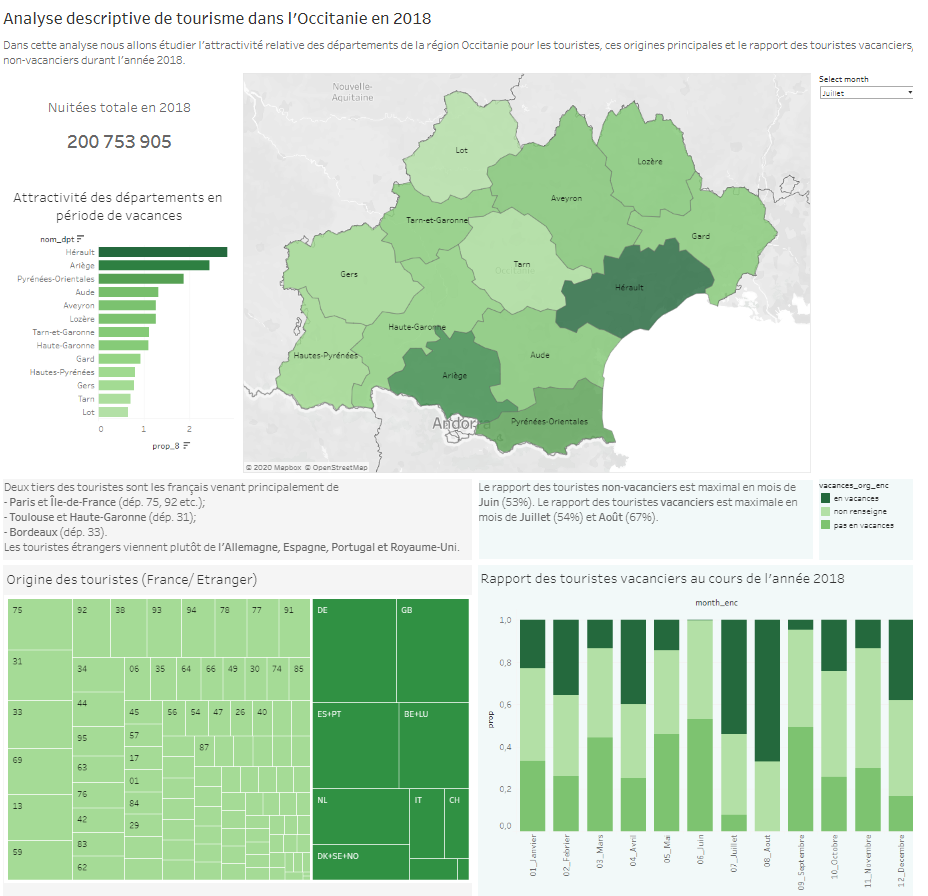

What the dashboard file says about the page in this screenshot:
{"tool":"tableau","page":{"name":"Dashboard 1","canvas":[1400,1400],"ordinal":0},"visuals":[{"type":"title","box":[8,8,1384,50]},{"type":"text","box":[8,58,1384,54]},{"type":"worksheet","title":"prop_1","mark":"Automatic","box":[8,112,1,608.4]},{"type":"worksheet","title":"prop_2","mark":"Automatic","box":[9,112,1,608.4]},{"type":"text","box":[10,112,353,166]},{"type":"worksheet","title":"prop_12","mark":"Automatic","box":[363,112,1,608.4]},{"type":"worksheet","title":"prop_11","mark":"Automatic","box":[364,112,1,608.4]},{"type":"worksheet","title":"prop_10","mark":"Automatic","box":[365,112,1,608.4]},{"type":"worksheet","title":"prop_9","mark":"Automatic","box":[366,112,1,608.4]},{"type":"worksheet","title":"prop_8","mark":"Automatic","box":[367,112,1,608.4]},{"type":"worksheet","title":"prop_7","mark":"Automatic","box":[367.9,112,860.1,608.4]},{"type":"worksheet","title":"prop_6","mark":"Automatic","box":[1228,112,1,608.4]},{"type":"worksheet","title":"prop_5","mark":"Automatic","box":[1229,112,1,608.4]},{"type":"worksheet","title":"prop_4","mark":"Automatic","box":[1230,112,1,608.4]},{"type":"worksheet","title":"prop_3","mark":"Automatic","box":[1231,112,1,608.4]},{"type":"parameter","param":"[Parameters].[Parameter 1]","box":[1232,112,160,54]},{"type":"worksheet","title":"dep_vis","mark":"Automatic","rows":["nom_dpt"],"cols":["prop_8"],"box":[10,278,353,426]},{"type":"text","box":[8,720.4,712,129.4]},{"type":"text","box":[720,720.4,512,129.4]},{"type":"legend","title":"df_vacance","param":"[federated.14q71590l86rbe1axti0s09cgynp].[none:vacances_org_enc:nk]","box":[1232,720.4,160,129.4]},{"type":"worksheet","title":"df_org","mark":"Automatic","box":[8,849.8,712,510.2]},{"type":"worksheet","title":"df_vacance","mark":"Automatic","rows":["prop"],"cols":["month_enc"],"box":[720,849.8,671.9,510.2]},{"type":"text","box":[8,1360,1384,32]}]}

Visuals, with their boxes on the page's 1400x1400 design canvas (x1, y1, x2, y2). These are canvas units, not pixel positions in the 928x896 screenshot, which may show the page scaled, cropped or inside an application window:
title: locate(8, 8, 1392, 58)
text: locate(8, 58, 1392, 112)
"prop_1" worksheet: locate(8, 112, 9, 720)
"prop_2" worksheet: locate(9, 112, 10, 720)
text: locate(10, 112, 363, 278)
"prop_12" worksheet: locate(363, 112, 364, 720)
"prop_11" worksheet: locate(364, 112, 365, 720)
"prop_10" worksheet: locate(365, 112, 366, 720)
"prop_9" worksheet: locate(366, 112, 367, 720)
"prop_8" worksheet: locate(367, 112, 368, 720)
"prop_7" worksheet: locate(368, 112, 1228, 720)
"prop_6" worksheet: locate(1228, 112, 1229, 720)
"prop_5" worksheet: locate(1229, 112, 1230, 720)
"prop_4" worksheet: locate(1230, 112, 1231, 720)
"prop_3" worksheet: locate(1231, 112, 1232, 720)
parameter: locate(1232, 112, 1392, 166)
"dep_vis" worksheet: locate(10, 278, 363, 704)
text: locate(8, 720, 720, 850)
text: locate(720, 720, 1232, 850)
"df_vacance" legend: locate(1232, 720, 1392, 850)
"df_org" worksheet: locate(8, 850, 720, 1360)
"df_vacance" worksheet: locate(720, 850, 1392, 1360)
text: locate(8, 1360, 1392, 1392)
